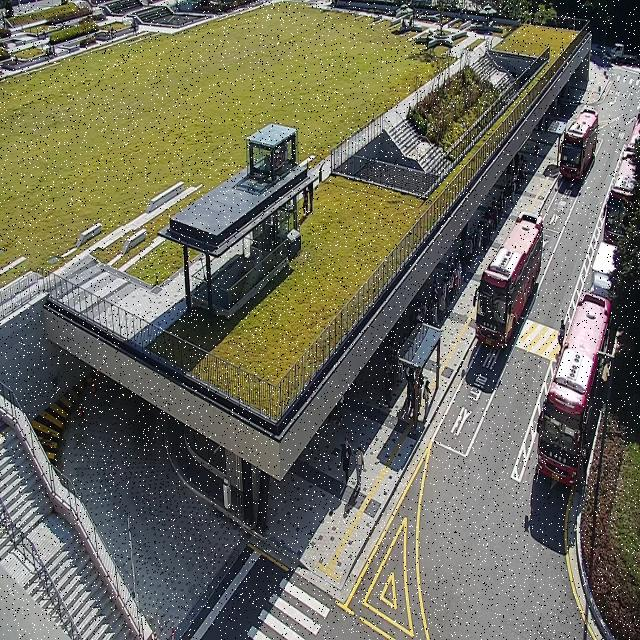queue: (414, 153, 529, 430)
